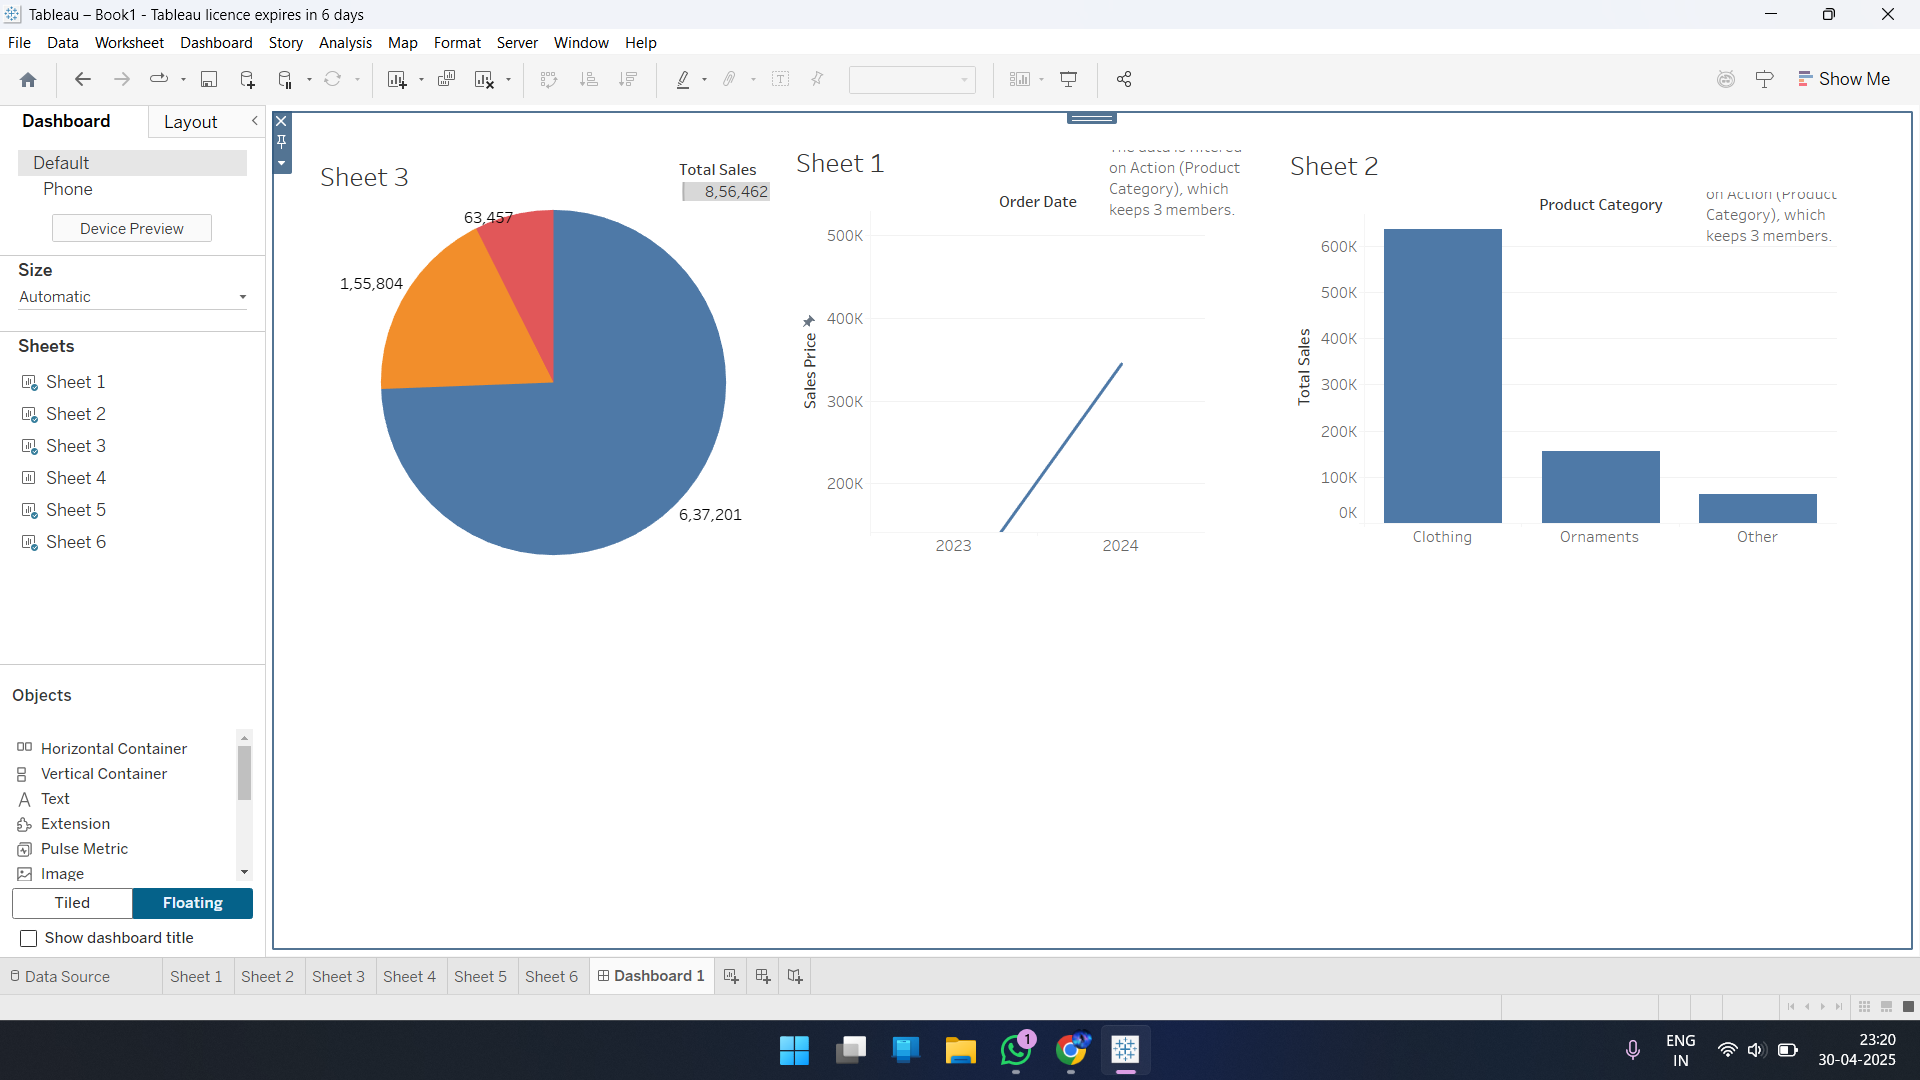

This screenshot's page, from the dashboard's own definition file:
{"tool":"tableau","page":{"name":"Dashboard 1","canvas":[1000,1000],"units":"permille","ordinal":0},"visuals":[{"type":"worksheet","title":"Sheet 1","mark":"Automatic","rows":["Sales Price"],"cols":["Order Date"],"box":[318.2,42.3,249.8,488.8]},{"type":"worksheet","title":"Sheet 2","mark":"Automatic","rows":["Total Sales"],"cols":["Product Category"],"box":[617.1,45.8,333.3,474.7]},{"type":"worksheet","title":"Sheet 5","mark":"Automatic","box":[510,52.9,83.5,82.3]},{"type":"worksheet","title":"Sheet 3","mark":"Pie","box":[30.2,58.8,298.2,477.1]},{"type":"legend","title":"Sheet 3","param":"[federated.1atec9m0bwe5u718aswjg1r8g6ck].[sum:Total Sales:qk]","box":[249.8,63.5,56.3,95.2]},{"type":"worksheet","title":"Sheet 6","mark":"Automatic","box":[871.1,102.2,85.9,63.5]}]}

Visuals, with their boxes on the dashboard's canvas, which has no fixed pixel size, in thousandths of its width and height (x1, y1, x2, y2). These are canvas units, not pixel positions in the 1920x1080 screenshot, which may show the page scaled, cropped or inside an application window:
"Sheet 1" worksheet: 318,42,568,531
"Sheet 2" worksheet: 617,46,950,520
"Sheet 5" worksheet: 510,53,594,135
"Sheet 3" worksheet (Pie marks): 30,59,328,536
"Sheet 3" legend: 250,64,306,159
"Sheet 6" worksheet: 871,102,957,166
